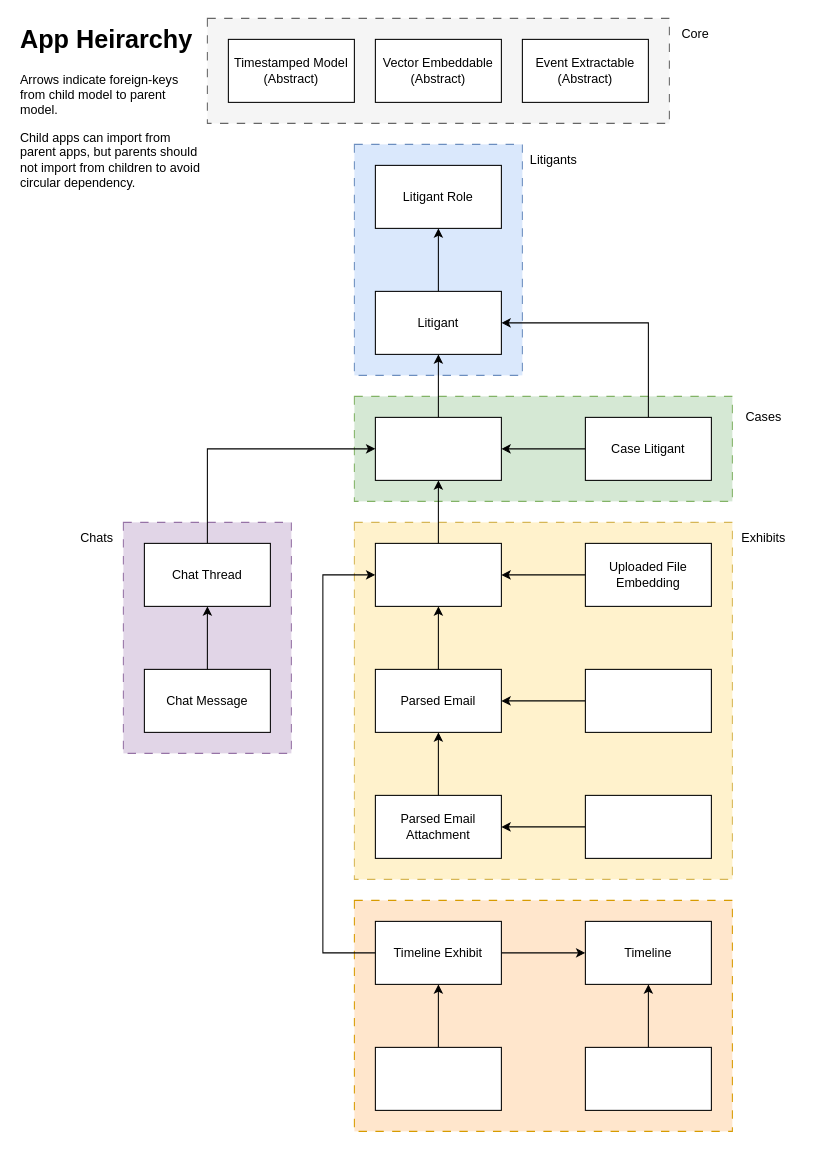
The diagram is 813 pixels wide and 1150 high, and some of its shapes have lost their labels. The shapes that lost their labels are listed below. From the top down, each one's centre as x and y in pixels, then its label:
the point at 437,448: Case
the point at 437,574: Uploaded File
the point at 647,700: Parsed Email Embedding
the point at 647,826: Parsed Email Attachment Embedding
the point at 437,1078: Candidate Event
the point at 647,1078: Timeline Event
